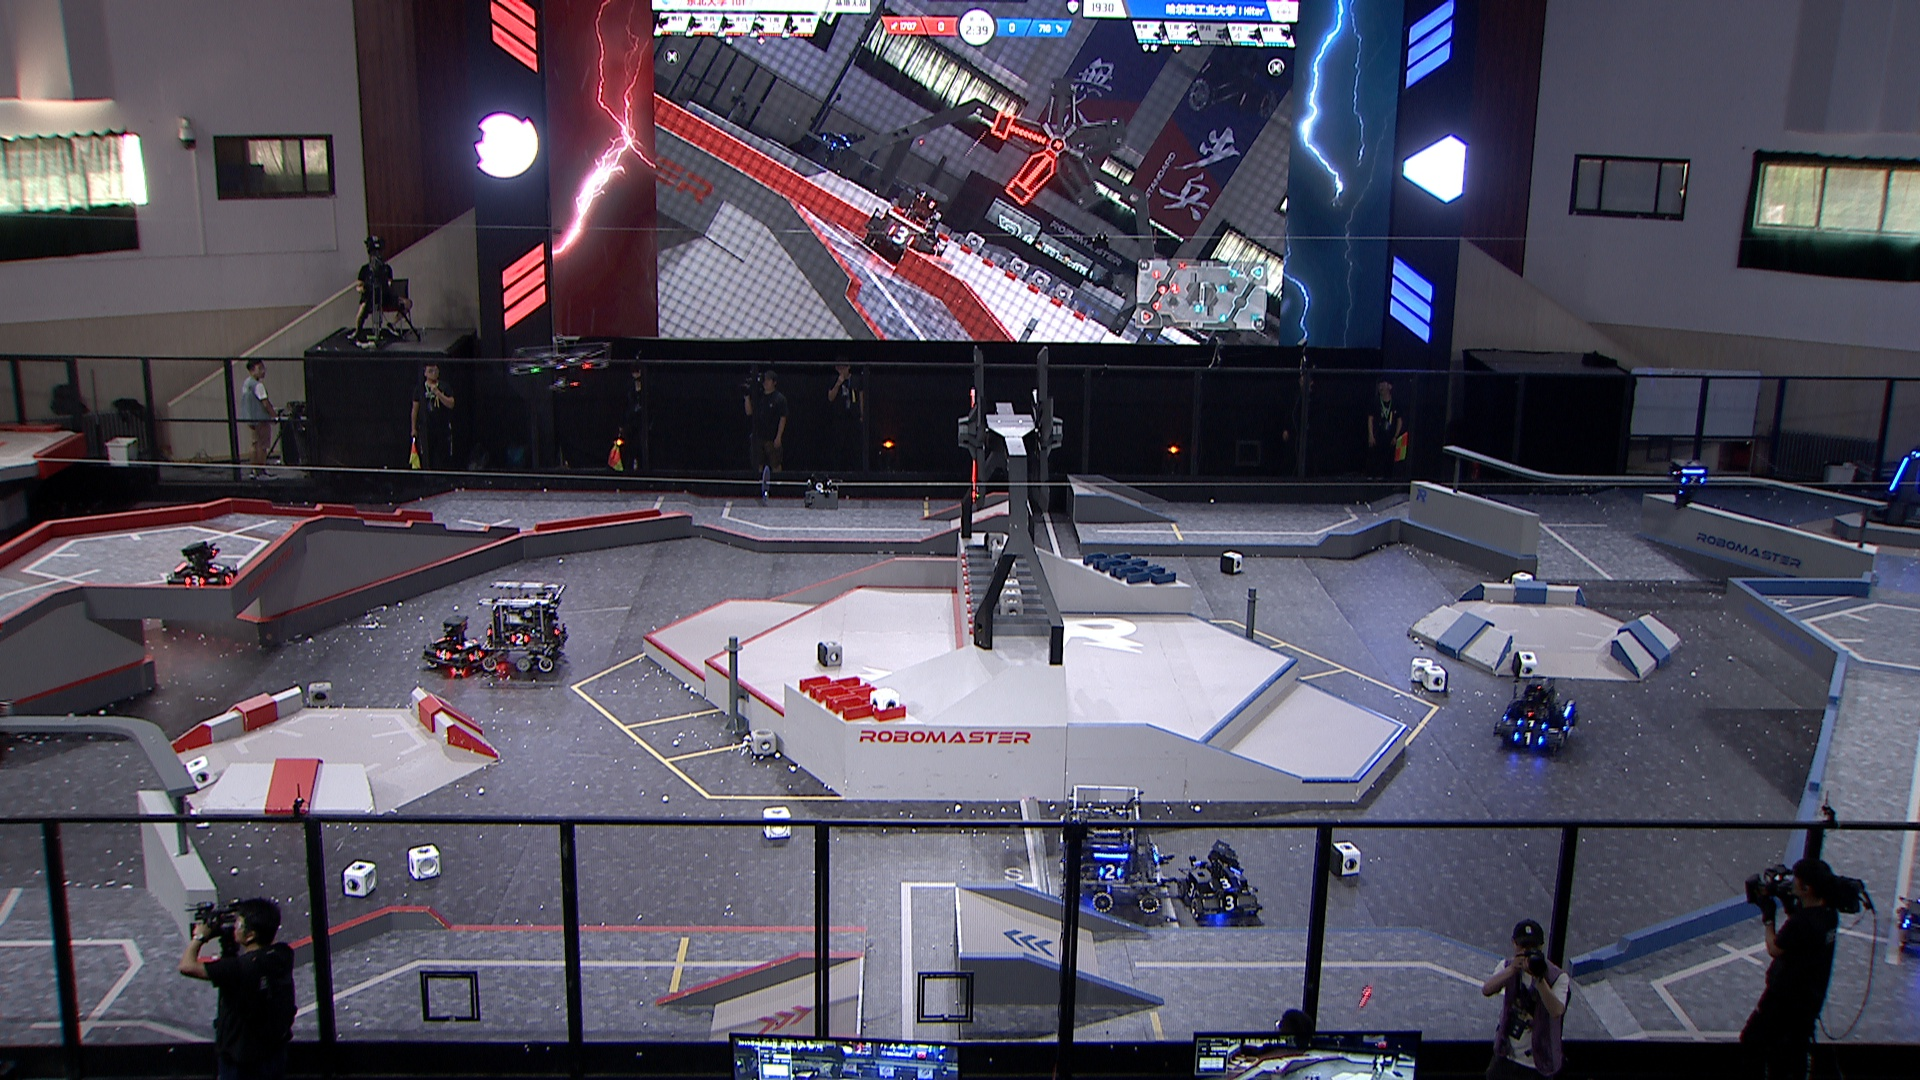armor: (1887, 456, 1911, 491), (1207, 877, 1242, 891), (1515, 717, 1551, 732), (1513, 732, 1548, 746), (1097, 864, 1125, 882), (1679, 473, 1706, 487), (1218, 895, 1240, 913), (509, 633, 531, 647), (208, 560, 229, 575), (434, 647, 454, 662), (455, 638, 479, 650), (1183, 884, 1199, 901), (467, 647, 485, 662), (183, 575, 208, 585), (224, 568, 240, 584), (1560, 717, 1575, 735)
base: (1866, 451, 1920, 533)
car: (1059, 783, 1172, 916), (476, 582, 571, 674), (1174, 841, 1263, 924), (1498, 678, 1580, 757), (166, 538, 243, 595), (423, 615, 487, 678), (1896, 865, 1920, 956)
ignore: (860, 185, 945, 266), (785, 129, 858, 185)
watcher: (1669, 458, 1712, 510)
